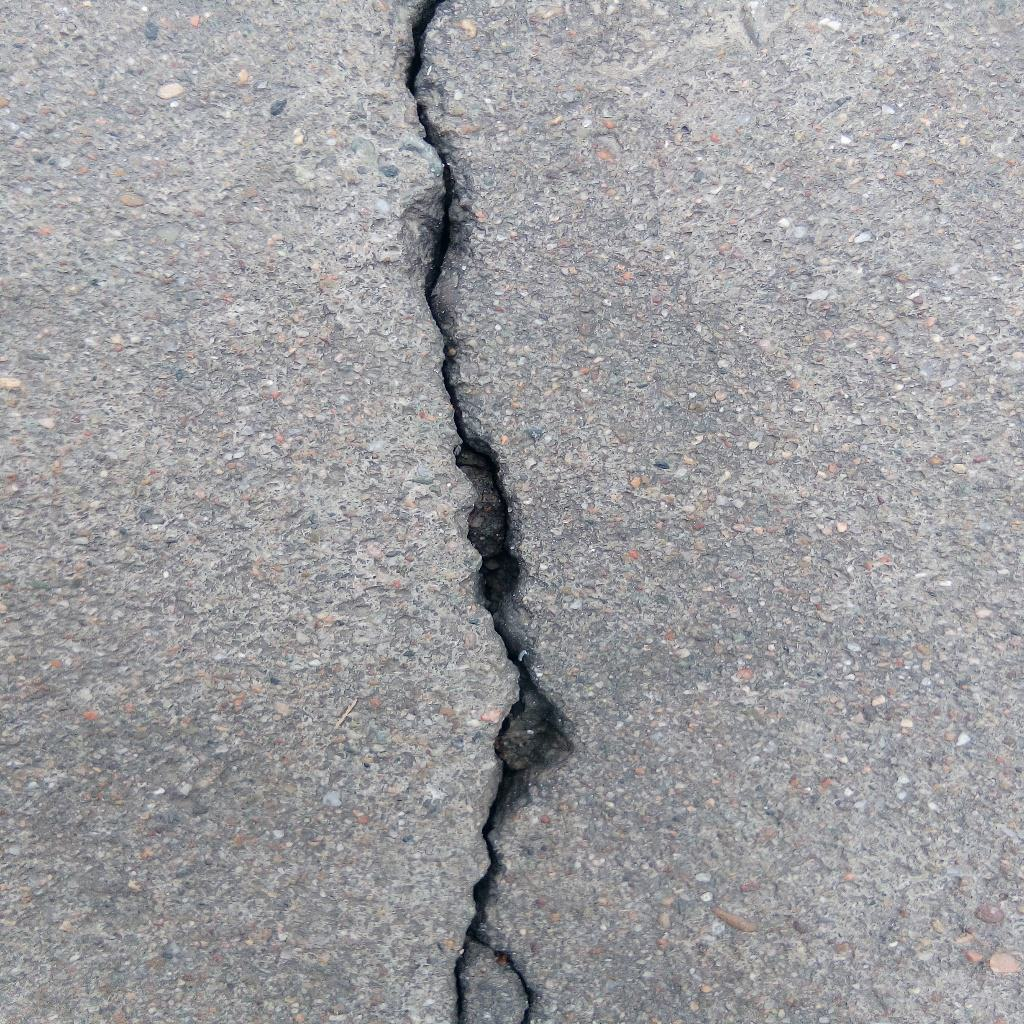Crack: (404, 1, 571, 1024)
